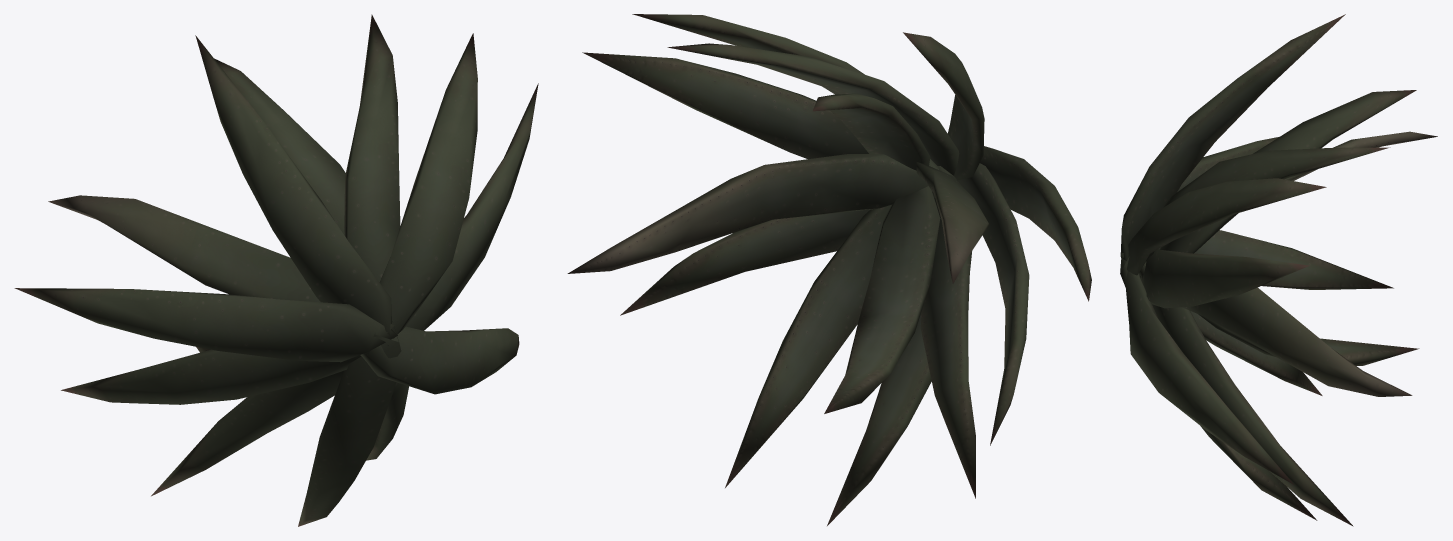
File: DE_Cactus_b_01.fbx
3 views of the same model, side by side, from view 1: azimuth 30°, elevation 25°; view 2: azimuth 150°, elevation 25°; view 3: azimuth 270°, elevation 25° (orthographic). The views are drawn at different scales.
Parts seen in each view (by area): view 1: DE_Cactus_b_01; view 2: DE_Cactus_b_01; view 3: DE_Cactus_b_01.
Boxes of the visible parts, x1,y1,x2,y2 form: DE_Cactus_b_01: (14, 14, 538, 526); DE_Cactus_b_01: (567, 14, 1091, 525); DE_Cactus_b_01: (1120, 14, 1437, 526).
Bounding box in the file's own units: 2.72 × 2.6 × 1.61.
